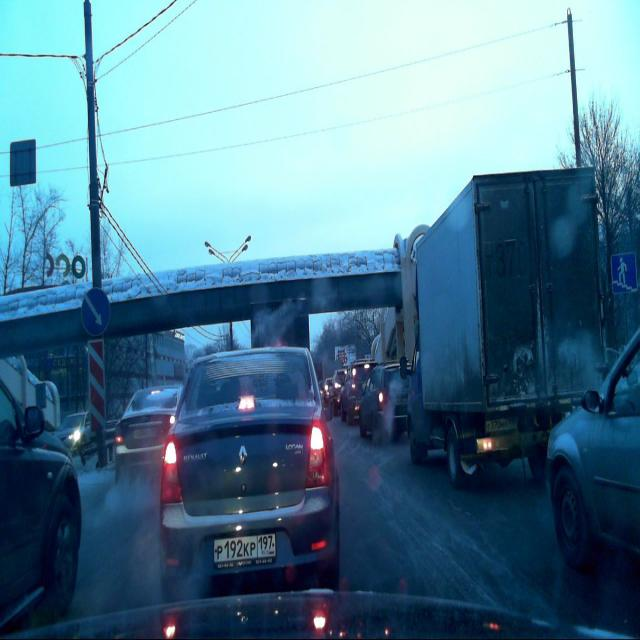object: (88, 340, 106, 434)
road sign: (611, 254, 636, 298)
